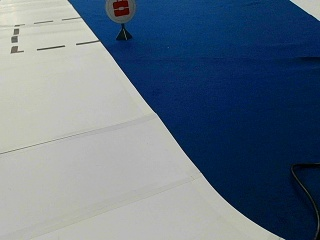company: (105, 0, 136, 23)
